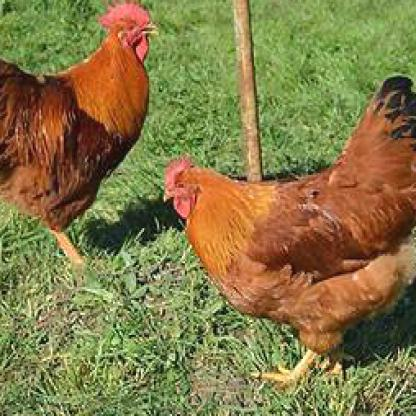chicken: (160, 77, 415, 386), (2, 0, 159, 269)
